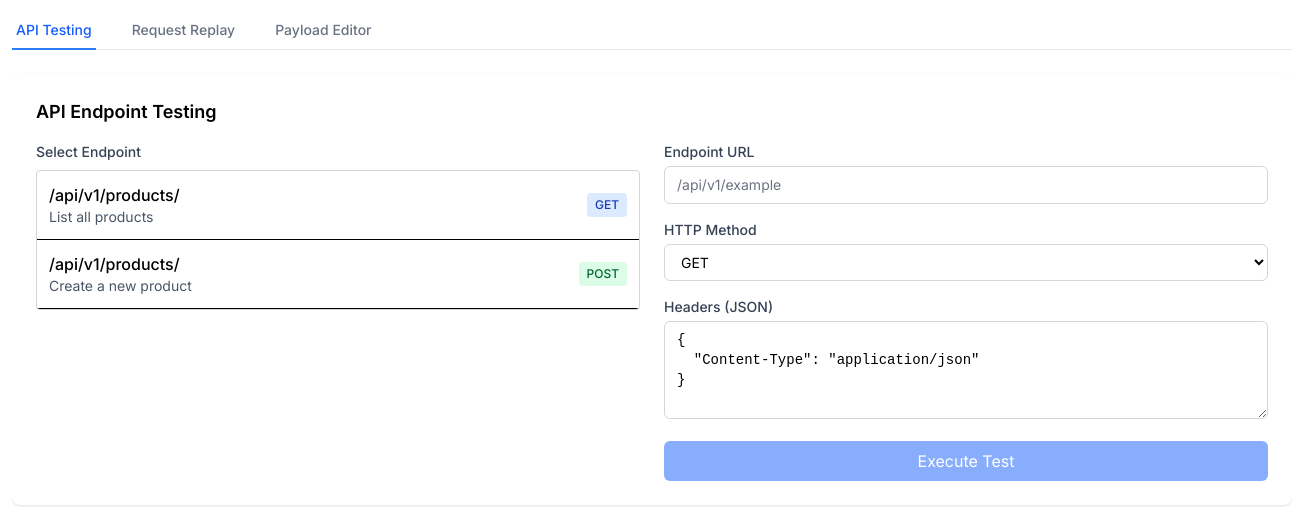
Scenario: DebuggingToolsInterface › allows selecting an endpoint
Click the text "List all products" at (101, 216), box [49,208,154,225]
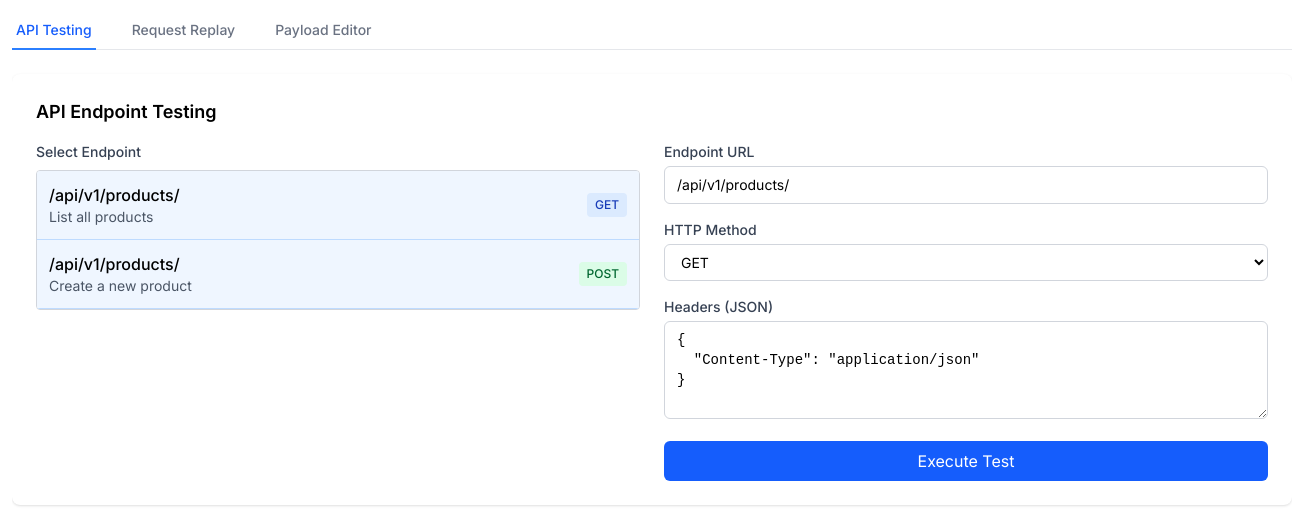
Check: the dropdown showing "GET" is shown, box [664,244,1268,281]
Check: the field showing "/api/v1/products/" is shown, box [664,166,1268,204]
